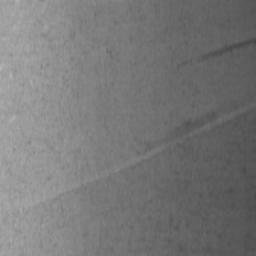Crease: (68, 102, 256, 192), (179, 38, 256, 66)
